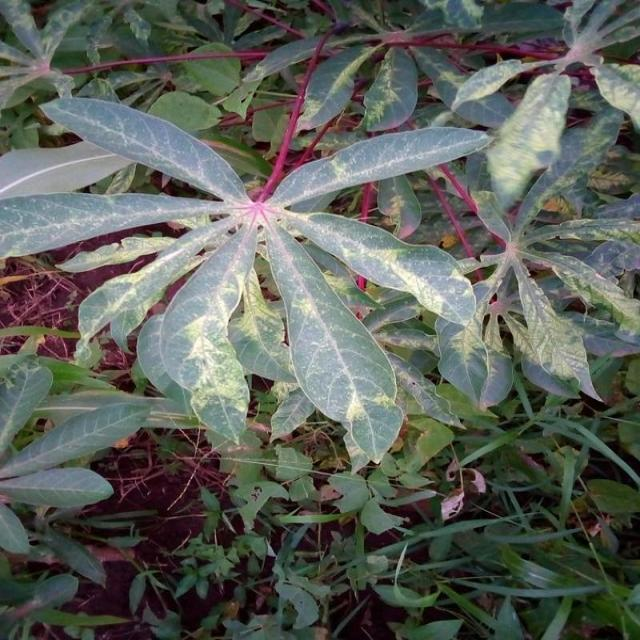cassava leaf: (5, 90, 495, 472)
